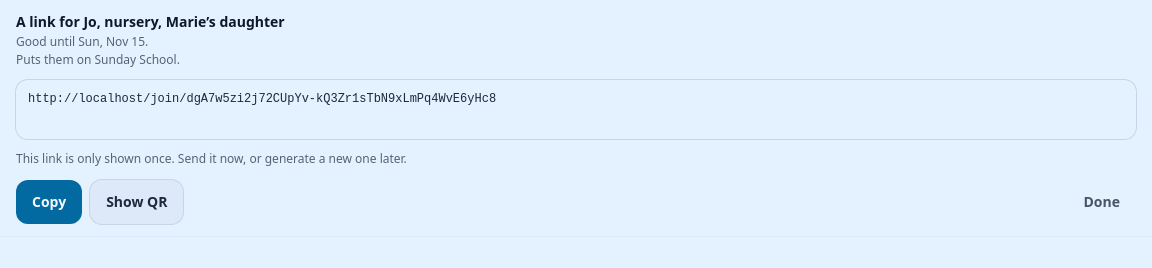
Test: the link itself › is readable and selectable even where the clipboard refuses
Click the button "Copy" at [49, 202], box [16,180,82,224]
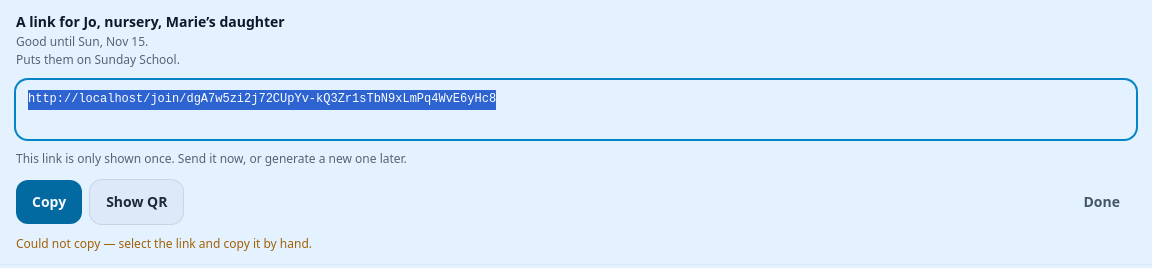
Expected: the message "Could not copy — select the link and copy it by hand." is shown, [16,234,312,252]
